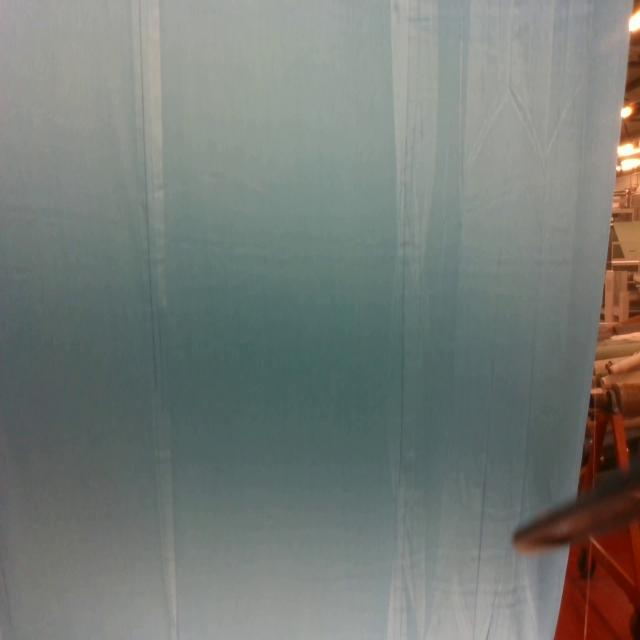crease: (388, 0, 512, 640), (132, 0, 178, 631)
